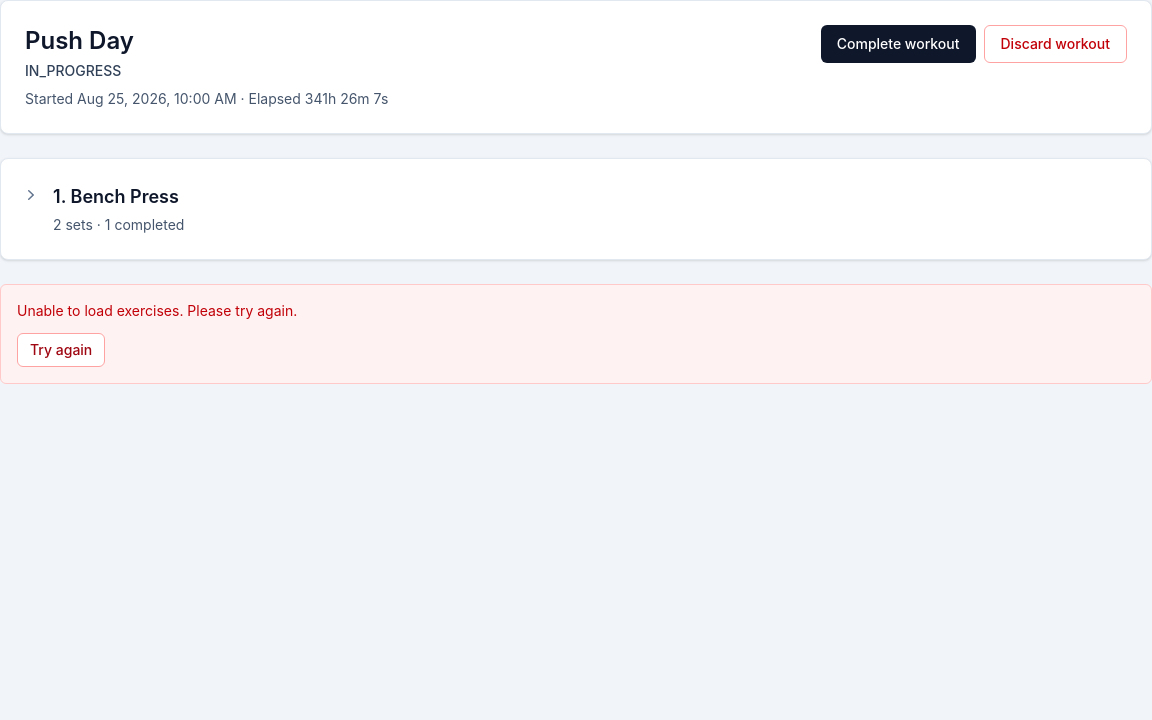
Test: ActiveWorkoutView › shows NO_COMPLETED_SETS message on completion failure
Click the button "Complete workout". click: {"x": 898, "y": 44}
box: [821,25,976,63]
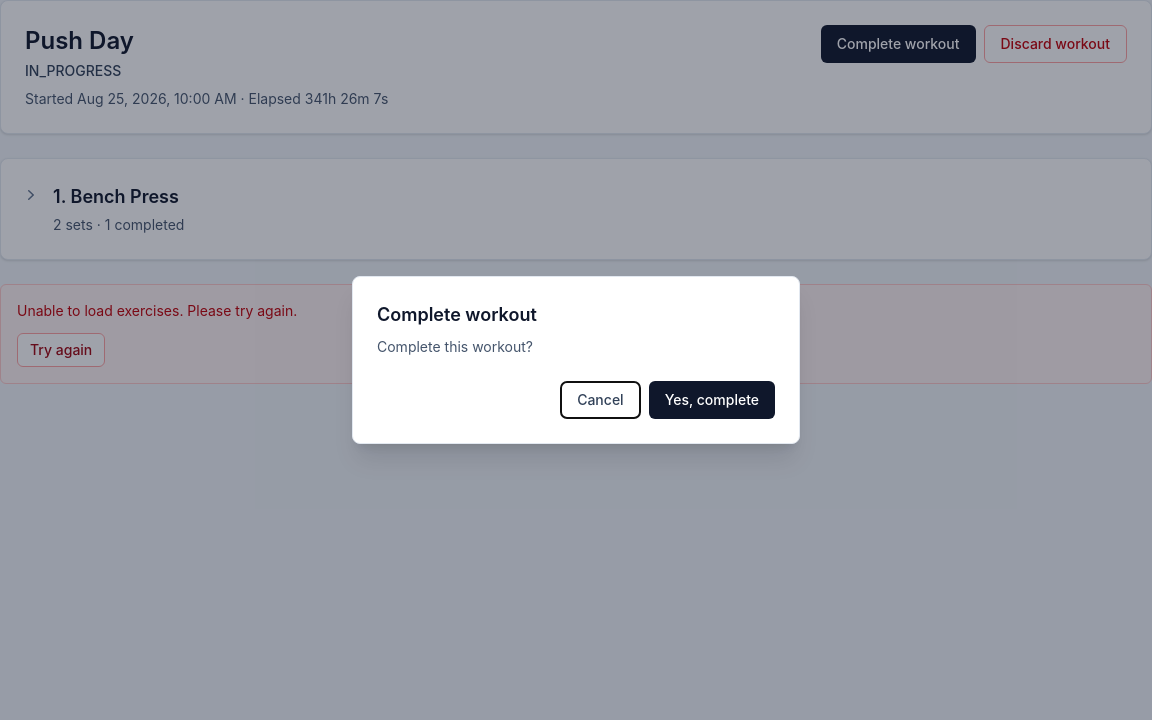
Click the button "Yes, complete". click: {"x": 712, "y": 400}
box: [649,381,775,419]
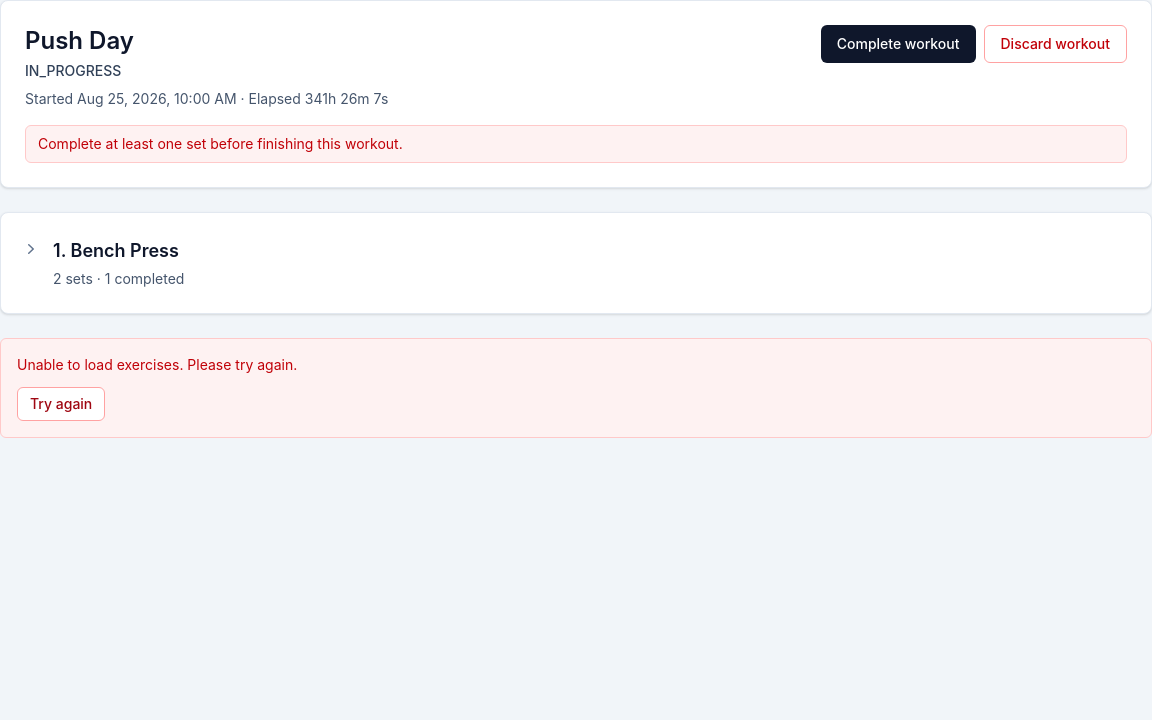
Now the text "Complete at least one set before finishing this workout." is shown, box [25,125,1127,163]
